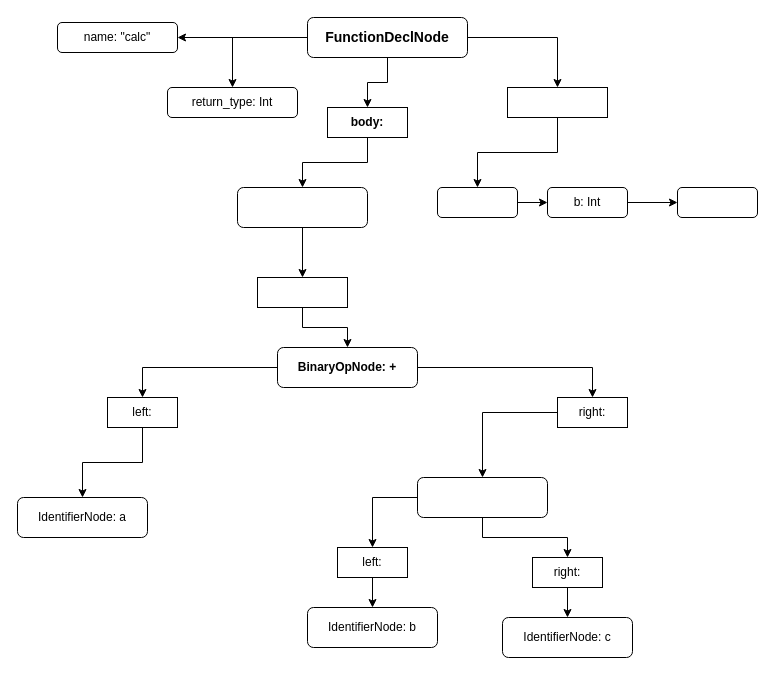
Image size: 775x675. Some labels were removed from this diagram. The box of each missing label's shape, as (x1, y1, x2, y2) in pixels:
a: Int: (436, 186, 518, 218)
BinaryOpNode: *: (416, 476, 548, 518)
c: Int: (676, 186, 758, 218)
expression:: (256, 276, 348, 308)
parameters:: (506, 86, 608, 118)
ReturnStmtNode: (236, 186, 368, 228)
